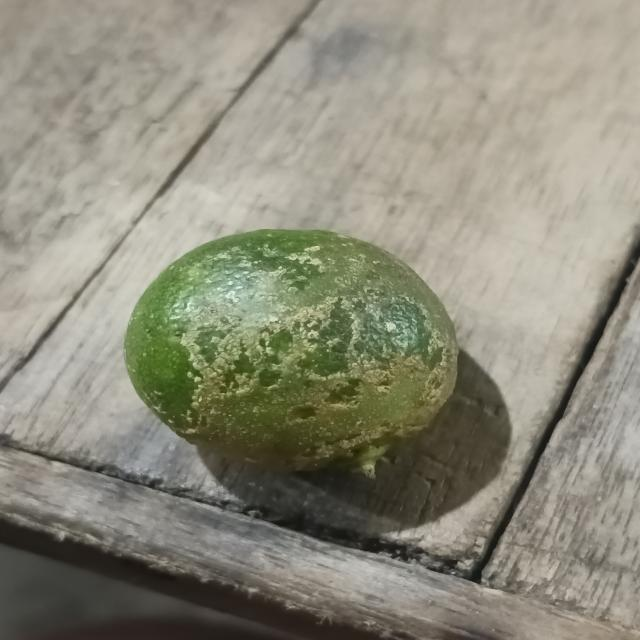thrips: (116, 225, 464, 460)
